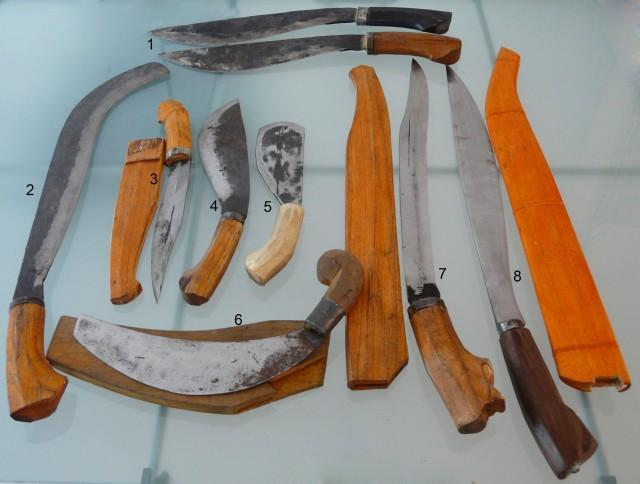facao: (430, 43, 617, 481), (2, 57, 176, 425), (67, 239, 379, 410), (394, 38, 509, 448), (136, 0, 470, 76), (172, 88, 257, 316), (235, 112, 315, 296)
